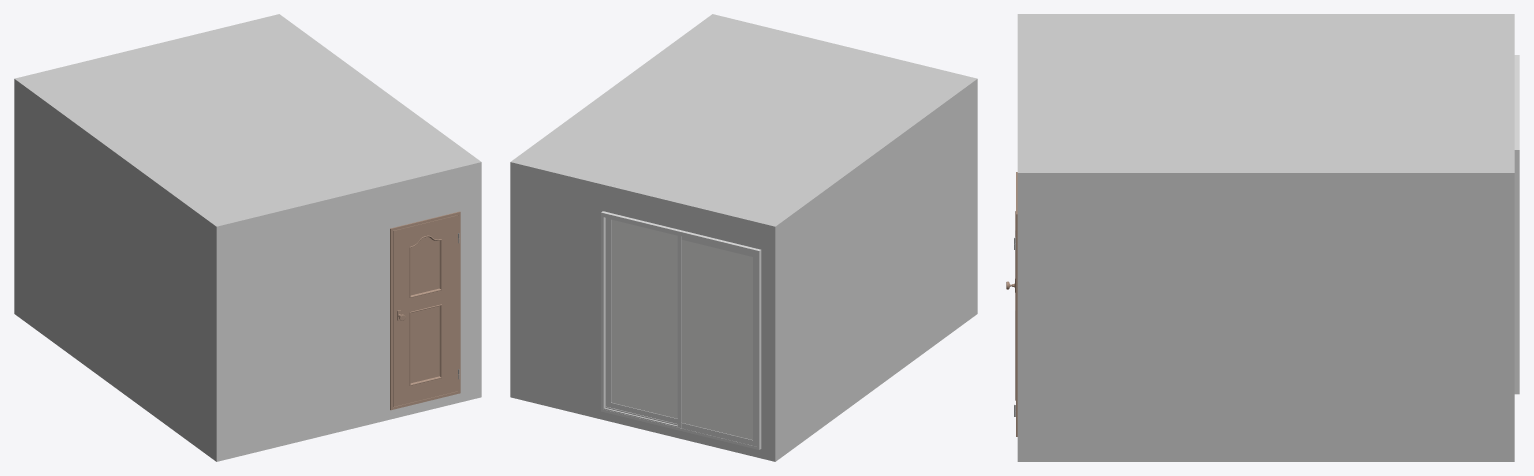
3 renders of one model, left to right at view 1: azimuth 30°, elevation 25°; view 2: azimuth 150°, elevation 25°; view 3: azimuth 270°, elevation 25°, orthographic. The views are drawn at different scales.
Visible parts, largest first — view 1: 南壁, 天井, 西壁, 扉, 北壁, 東壁; view 2: 天井, 西壁, 北壁, 左, 右, 南壁, 東壁; view 3: 東壁, 天井, 北壁, 南壁, 西壁.
Part boxes in pixels (box(x1,y1,x2,y2)): 南壁: box(214, 160, 481, 461); 天井: box(22, 17, 473, 223); 西壁: box(17, 79, 217, 459); 扉: box(393, 215, 459, 406); 北壁: box(14, 14, 281, 315); 東壁: box(277, 16, 478, 160); 天井: box(518, 17, 969, 223); 西壁: box(774, 79, 974, 459); 北壁: box(510, 160, 777, 461); 左: box(677, 235, 756, 446); 右: box(606, 218, 677, 423); 南壁: box(710, 14, 977, 315); 東壁: box(513, 16, 714, 160); 東壁: box(1024, 170, 1508, 461); 天井: box(1024, 16, 1508, 169); 北壁: box(1508, 14, 1519, 461); 南壁: box(1014, 14, 1024, 461); 西壁: box(1024, 14, 1508, 16).
Size of the model in its own units: 2.83 by 2.4 by 3.86.
